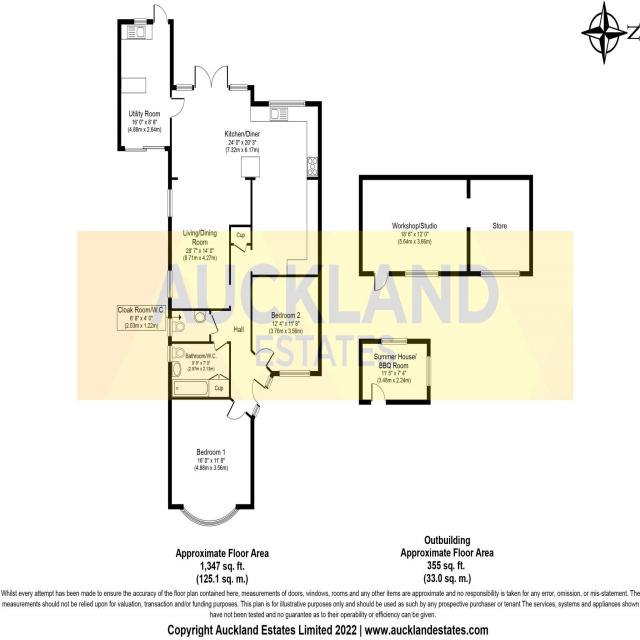DOOR: (252, 378, 268, 407), (226, 399, 247, 420), (254, 348, 275, 368), (153, 4, 169, 25), (170, 97, 185, 119), (209, 313, 219, 335), (213, 341, 227, 352)
DOUBLE DOOR: (193, 62, 230, 87)
ROOM: (167, 65, 322, 311), (168, 397, 254, 527), (250, 274, 322, 376)
WINDOW: (179, 506, 241, 527), (268, 100, 306, 107), (279, 370, 311, 377), (167, 188, 173, 218), (167, 270, 173, 298), (264, 375, 274, 389), (251, 404, 261, 418), (229, 84, 248, 91), (176, 84, 193, 91), (167, 318, 173, 337), (167, 345, 173, 363), (133, 18, 148, 25)
